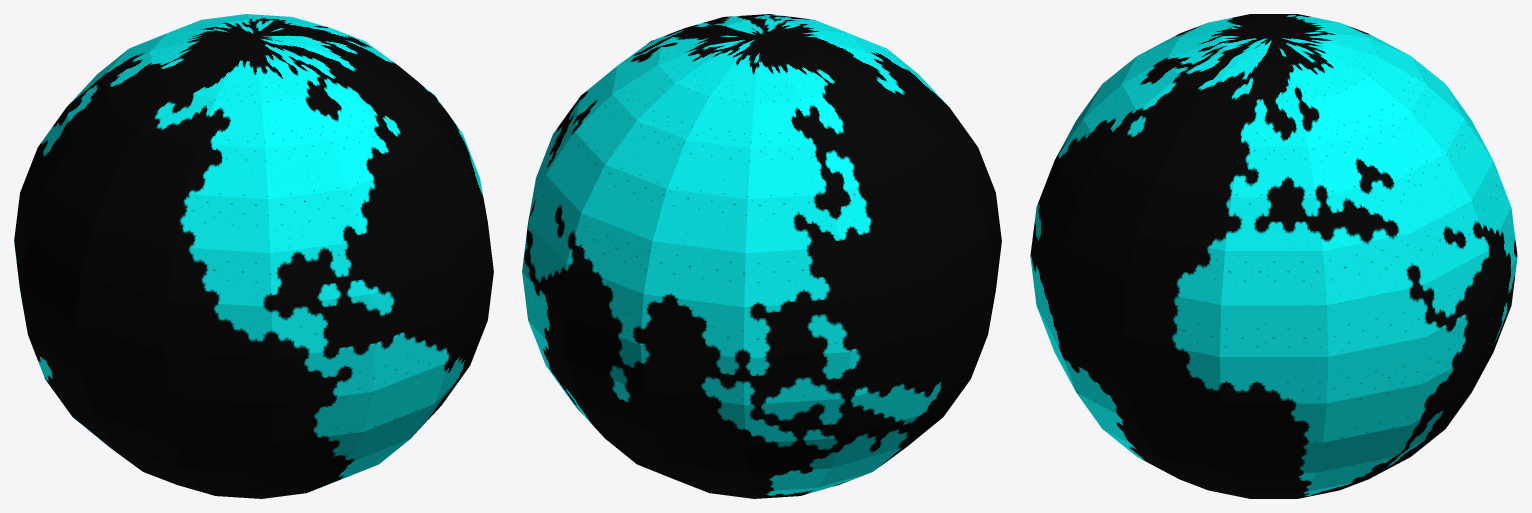
The model's file is world.obj.
3 views of the same model, side by side, from view 1: azimuth 30°, elevation 25°; view 2: azimuth 150°, elevation 25°; view 3: azimuth 270°, elevation 25° (orthographic).
Parts seen in each view (by area): view 1: Sphere; view 2: Sphere; view 3: Sphere.
Boxes of the visible parts, x1,y1,x2,y2 form: Sphere: [14, 14, 493, 498]; Sphere: [522, 14, 1001, 498]; Sphere: [1030, 14, 1517, 498].
Size of the model in its own units: 1.95 by 2 by 2.
